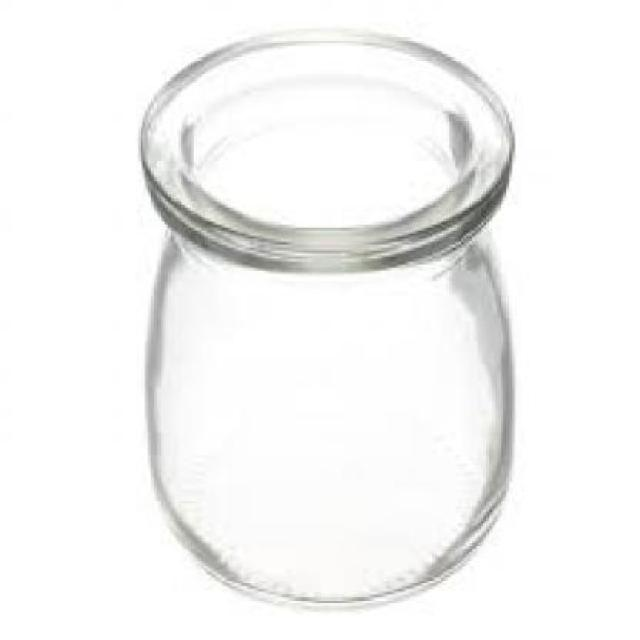kaca: (137, 29, 512, 600)
